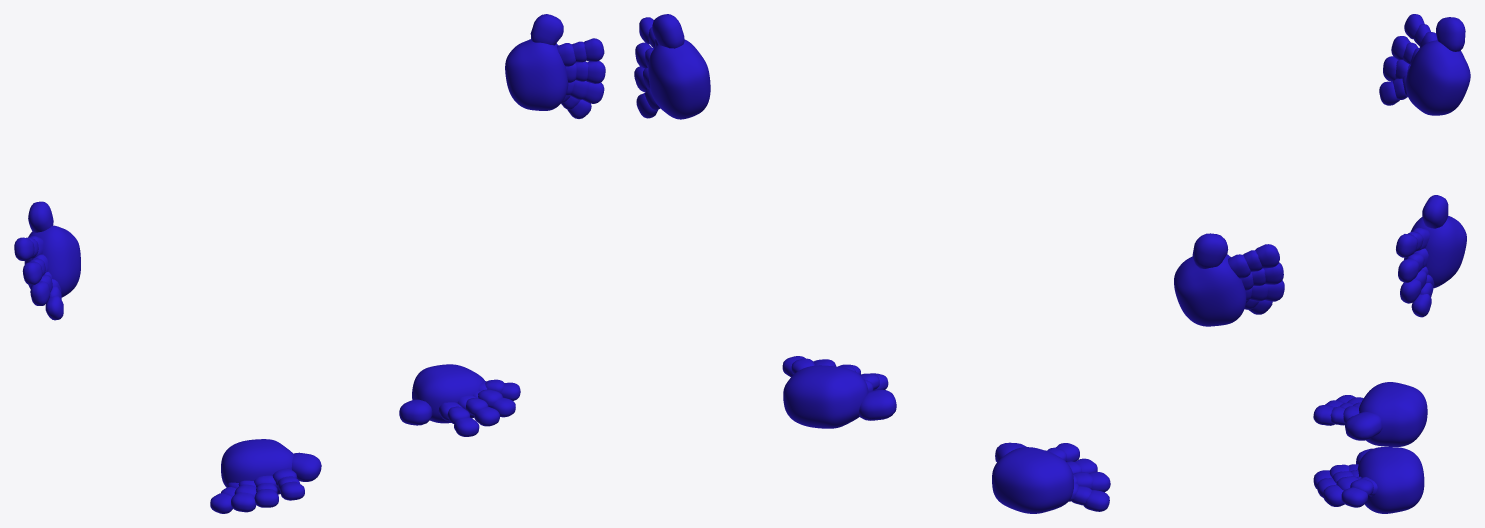
The model's file is pates-singe-blue.gltf.
The picture shows the model from 3 angles, left to right: view 1: azimuth 30°, elevation 25°; view 2: azimuth 150°, elevation 25°; view 3: azimuth 270°, elevation 25°; orthographic projection. The views are drawn at different scales.
Parts seen in each view (by area): view 1: Pieds et main; view 2: Pieds et main; view 3: Pieds et main.
Part boxes in pixels (x1,y1,x2,y2): Pieds et main: (14, 14, 605, 513); Pieds et main: (634, 14, 1284, 513); Pieds et main: (1313, 14, 1470, 513).
Bounding box in the file's own units: 5.44 × 3.43 × 1.22.
